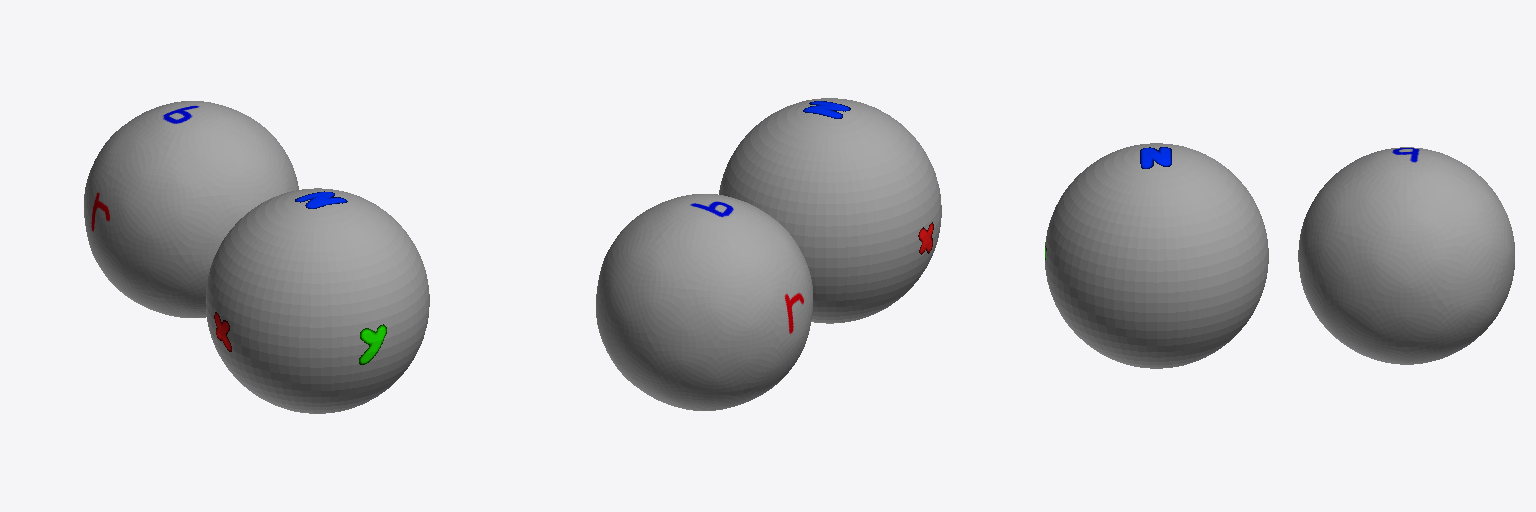
3 views of the same model, side by side, from view 1: azimuth 30°, elevation 25°; view 2: azimuth 150°, elevation 25°; view 3: azimuth 270°, elevation 25° (orthographic).
Parts seen in each view (by area): view 1: Sphere, Icosphere; view 2: Icosphere, Sphere; view 3: Sphere, Icosphere.
Part boxes in pixels (x1,y1,x2,y2): Sphere: (205,188,429,413); Icosphere: (84,101,298,317); Icosphere: (596,194,812,410); Sphere: (719,98,941,323); Sphere: (1045,143,1268,368); Icosphere: (1298,147,1514,364).
Size of the model in its own units: 1.97 by 2 by 4.14.
Materials: 2 (2 with a texture image).